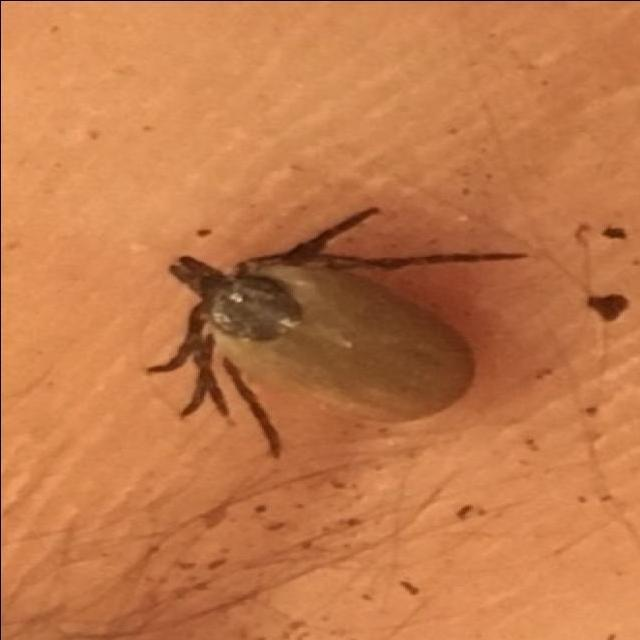Ixodes Ricinus-F-Fed: (145, 206, 528, 463)
